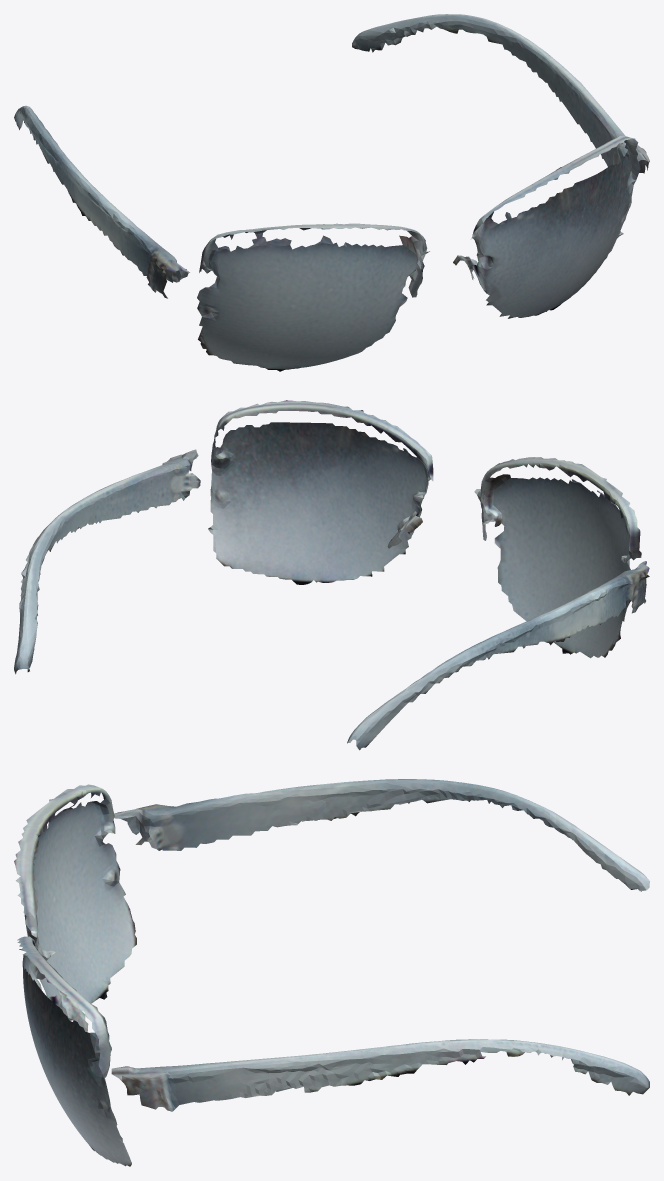
The model's file is scan_align.obj.
3 renders of one model, top to bottom at view 1: azimuth 30°, elevation 25°; view 2: azimuth 150°, elevation 25°; view 3: azimuth 270°, elevation 25°, orthographic. The views are drawn at different scales.
Bounding box in the file's own units: 0.1515 × 0.0489 × 0.1488.
Materials: 1 (1 with a texture image).
